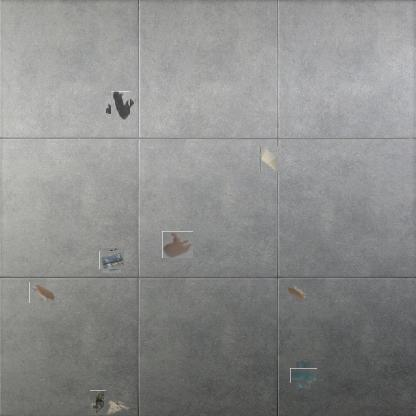dirty: (257, 146, 281, 172), (108, 94, 133, 118), (29, 281, 56, 303), (101, 250, 123, 271), (105, 398, 129, 416), (286, 283, 306, 303), (90, 390, 106, 415)
liquid: (162, 231, 193, 258), (293, 365, 314, 386)
